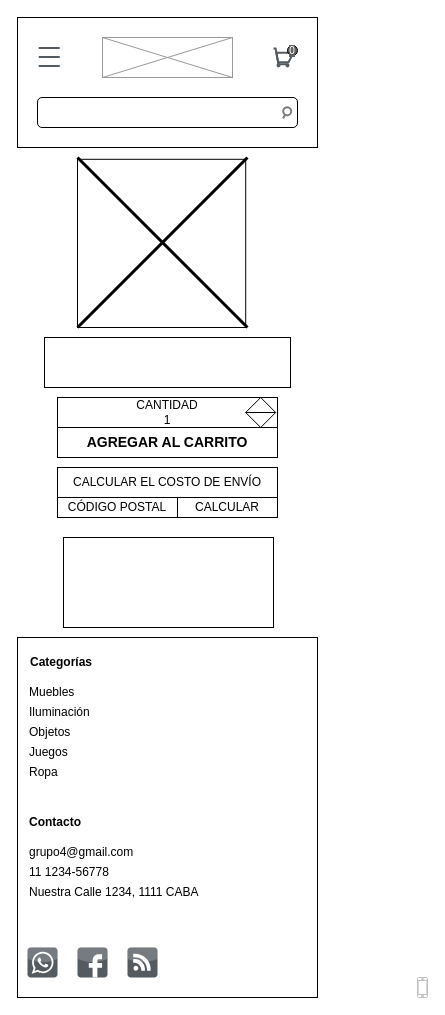
This 445x1015 diagram has some shape labels left out. Each missing label, with the box of its shape:
DETALLE DEL PRODUCTO: (62, 536, 274, 628)
NOMBRE DEL PRODUCTO PRECIO FORMAS DE PAGO: (44, 336, 290, 388)
¿Qué estás buscando?: (36, 96, 298, 128)
